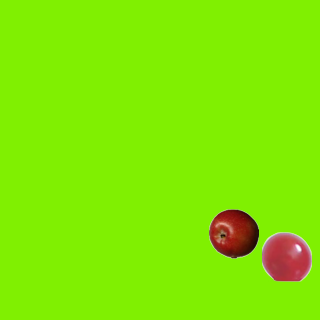Apple Braeburn: (208, 208, 258, 258)
Redcurrant: (261, 231, 311, 281)
